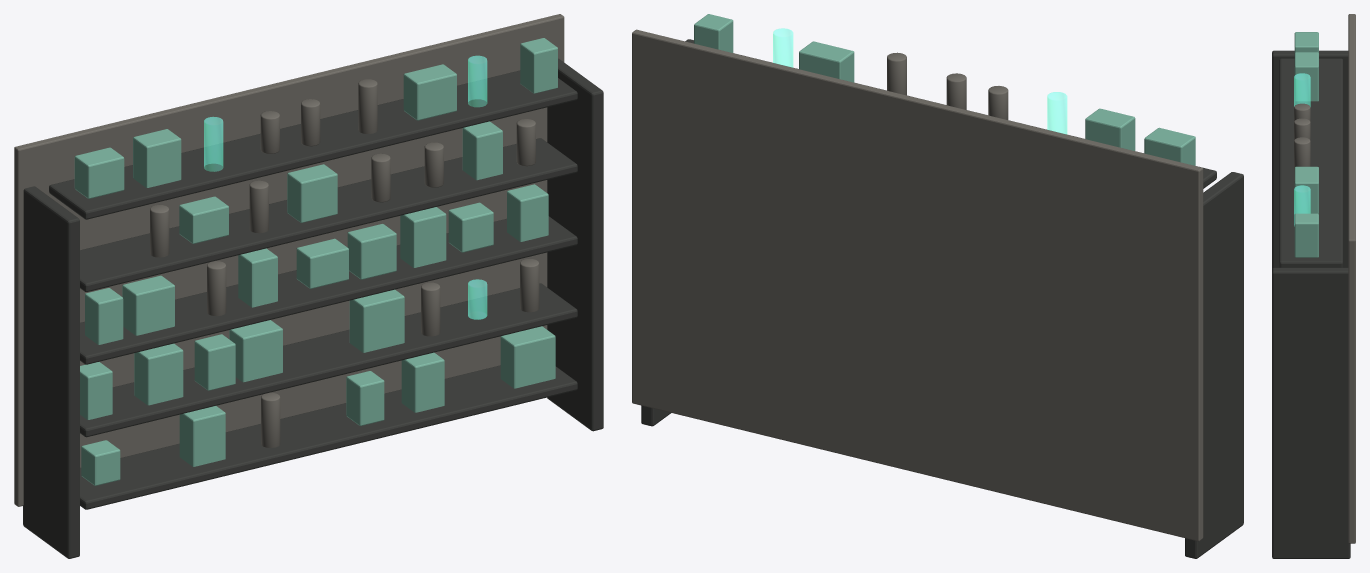
File: dz_shelf_pharmacy_loaded_A.glb
3 renders of one model, left to right at view 1: azimuth 30°, elevation 25°; view 2: azimuth 150°, elevation 25°; view 3: azimuth 270°, elevation 25°, orthographic. The views are drawn at different scales.
Parts seen in each view (by area): view 1: back_shadow_panel, left_upright_bent, loaded_shelf_board_4, right_upright_bent, loaded_shelf_board_3, loaded_shelf_board_0, loaded_shelf_board_1, loaded_shelf_board_2, loaded_box_1_5, loaded_box_0_8, loaded_box_2_1, loaded_box_1_1 (+36 smaller); view 2: back_shadow_panel, left_upright_bent, loaded_box_4_6, loaded_box_4_1, loaded_box_4_0, loaded_box_4_8, loaded_bottle_4_2, loaded_bottle_4_5, loaded_bottle_4_7; view 3: right_upright_bent, loaded_shelf_board_4, back_shadow_panel, left_upright_bent, loaded_box_4_1, loaded_box_4_6, loaded_box_4_8, loaded_box_4_0, loaded_bottle_4_2, loaded_bottle_4_5, loaded_bottle_4_7, loaded_bottle_4_4 (+1 smaller).
Boxes of the visible parts, bbox=[...] form: back_shadow_panel: bbox=[14, 14, 564, 506]; left_upright_bent: bbox=[23, 186, 79, 558]; loaded_shelf_board_4: bbox=[49, 70, 577, 219]; right_upright_bent: bbox=[547, 58, 603, 431]; loaded_shelf_board_3: bbox=[80, 138, 577, 291]; loaded_shelf_board_0: bbox=[80, 365, 577, 509]; loaded_shelf_board_1: bbox=[80, 283, 577, 437]; loaded_shelf_board_2: bbox=[80, 216, 577, 364]; loaded_box_1_5: bbox=[349, 289, 404, 352]; loaded_box_0_8: bbox=[500, 326, 555, 388]; loaded_box_2_1: bbox=[122, 275, 174, 335]; loaded_box_1_1: bbox=[134, 343, 183, 405]; back_shadow_panel: bbox=[632, 29, 1203, 541]; left_upright_bent: bbox=[1185, 172, 1243, 558]; loaded_box_4_6: bbox=[799, 41, 854, 82]; loaded_box_4_1: bbox=[1085, 108, 1135, 150]; loaded_box_4_0: bbox=[1144, 127, 1195, 165]; loaded_box_4_8: bbox=[694, 14, 733, 52]; loaded_bottle_4_2: bbox=[1047, 92, 1067, 134]; loaded_bottle_4_5: bbox=[887, 52, 906, 95]; loaded_bottle_4_7: bbox=[773, 28, 793, 67]; right_upright_bent: bbox=[1272, 267, 1350, 558]; loaded_shelf_board_4: bbox=[1279, 58, 1342, 267]; back_shadow_panel: bbox=[1348, 14, 1355, 543]; left_upright_bent: bbox=[1272, 50, 1348, 268]; loaded_box_4_1: bbox=[1294, 52, 1318, 101]; loaded_box_4_6: bbox=[1294, 166, 1318, 213]; loaded_box_4_8: bbox=[1294, 213, 1318, 257]; loaded_box_4_0: bbox=[1294, 32, 1318, 52]; loaded_bottle_4_2: bbox=[1294, 73, 1310, 106]; loaded_bottle_4_5: bbox=[1294, 137, 1310, 180]; loaded_bottle_4_7: bbox=[1294, 185, 1310, 226]; loaded_bottle_4_4: bbox=[1294, 118, 1310, 140].
Bounding box in the file's own units: 3.55 × 2.4 × 0.555.
